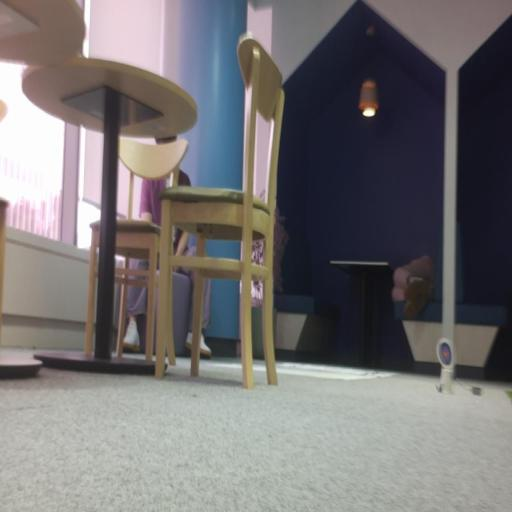target: (436, 338, 454, 368)
